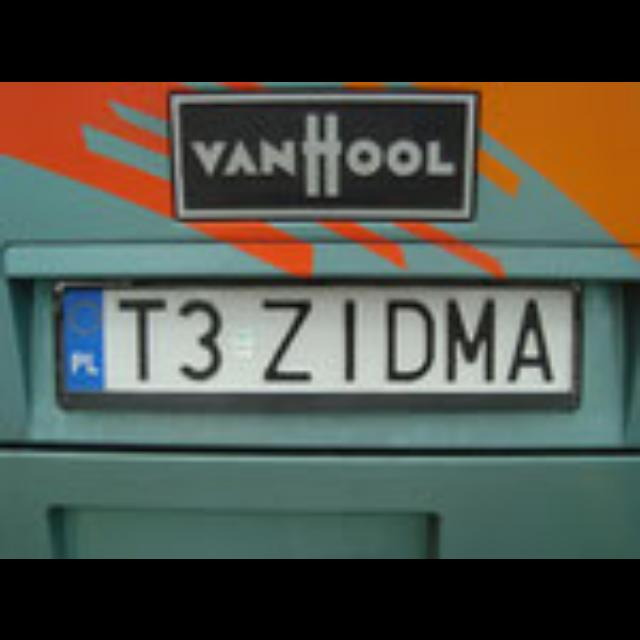pl_license_plate: (56, 282, 576, 392)
